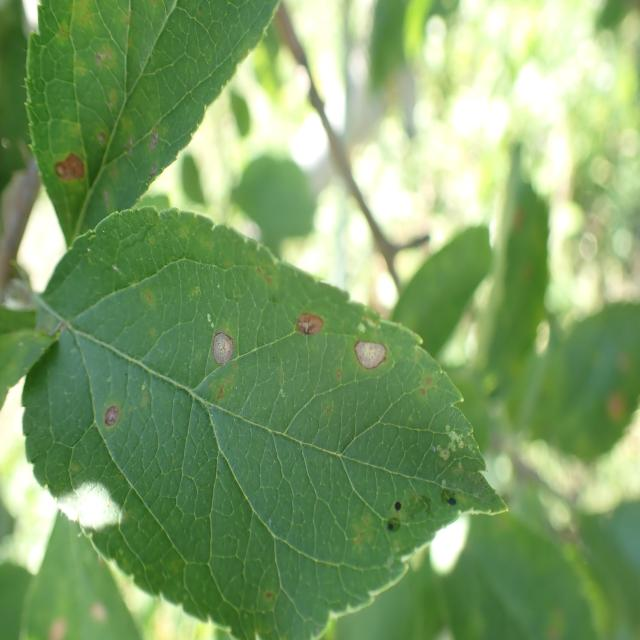frog-eye-leaf-spot: (22, 205, 510, 640), (23, 0, 282, 250)
